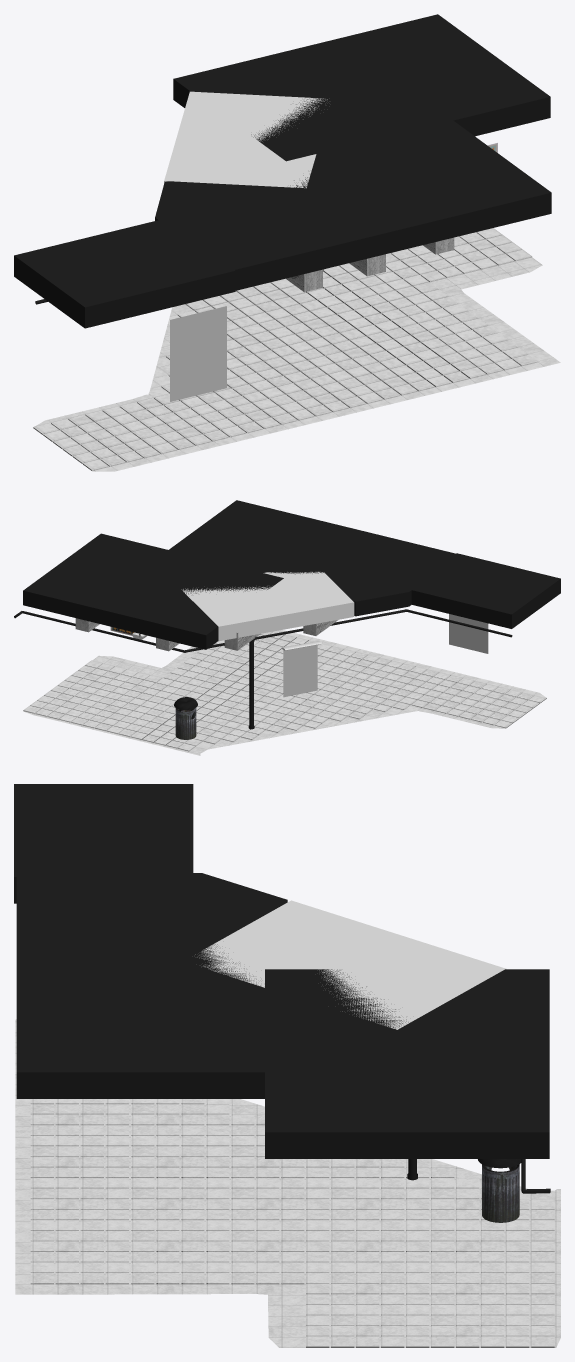
File: estacion.fbx
3 views of the same model, one above another, from view 1: azimuth 30°, elevation 25°; view 2: azimuth 150°, elevation 25°; view 3: azimuth 270°, elevation 25° (orthographic). The views are drawn at different scales.
Parts seen in each view (by area): view 1: Plane, Cube.001, Cube, Cube.002, Cube.003, Plane.020; view 2: Plane, Cube, Cube.001, Cube.002, Cube.003, Plane.019, Plane.020, Plane.022, Cylinder.002, Cylinder, Cylinder.001, Cylinder.003 (+1 smaller); view 3: Plane, Cube.001, Cube, Cube.003, Cube.002, Plane.022.
Part boxes in pixels (x1,y1,x2,y2): Plane: (33,228,560,471); Cube.001: (155,120,551,290); Cube: (173,14,550,161); Cube.002: (14,218,235,328); Cube.003: (164,91,327,188); Plane.020: (170,306,226,401); Plane: (23,630,546,755); Cube: (23,533,283,649); Cube.001: (169,500,455,616); Cube.002: (408,553,560,628); Cube.003: (181,571,354,641); Plane.019: (283,645,317,697); Plane.020: (449,614,488,653); Plane.022: (174,697,197,739); Cylinder.002: (185,609,406,652); Cylinder: (248,636,255,729); Cylinder.001: (14,611,185,652); Cylinder.003: (406,609,512,637); Plane: (15,1019,560,1347); Cube.001: (16,873,287,1098); Cube: (265,969,549,1158); Cube.003: (195,900,505,1029); Cube.002: (14,784,193,903); Plane.022: (478,1159,521,1222).
Bounding box in the file's own units: 3057 × 897 × 1983.
